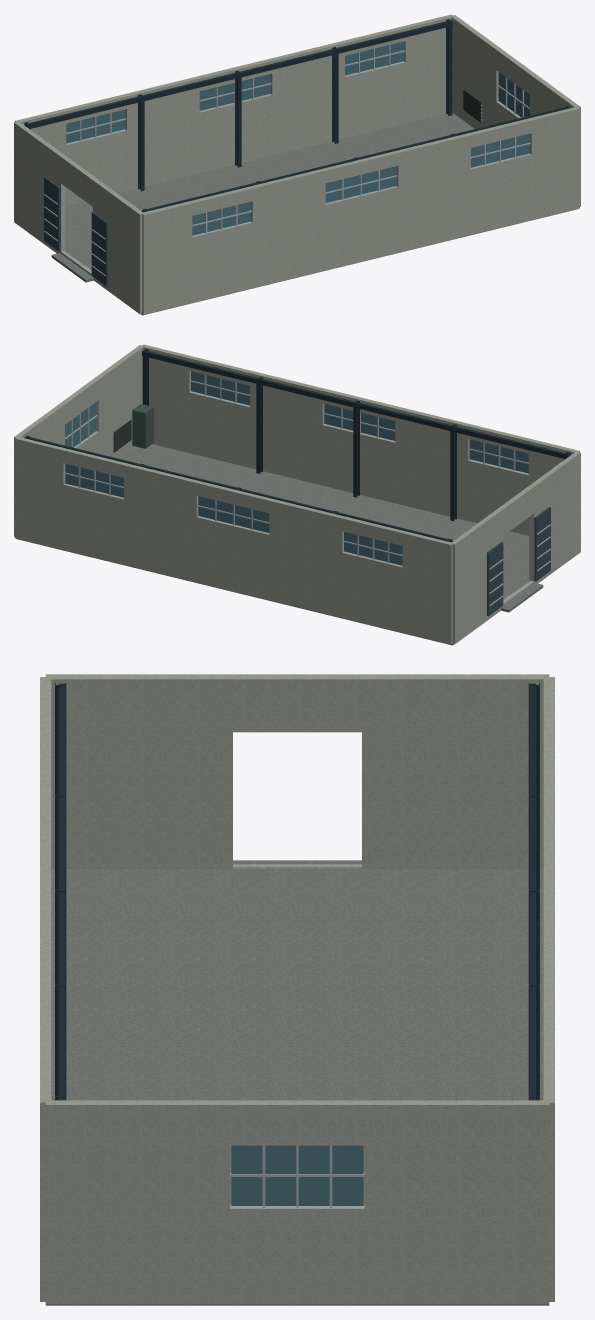
The model's file is mine-distribution-shell.glb.
3 renders of one model, top to bottom at view 1: azimuth 30°, elevation 25°; view 2: azimuth 150°, elevation 25°; view 3: azimuth 270°, elevation 25°, orthographic. The views are drawn at different scales.
Visible parts, largest first — view 1: distribution-shell__Power_wall, distribution-shell__Power_concrete, distribution-shell__Power_glass, distribution-shell__Power_steel, distribution-shell__Power_trim, distribution-shell__Power_roof, distribution-shell__Power_dark; view 2: distribution-shell__Power_wall, distribution-shell__Power_concrete, distribution-shell__Power_glass, distribution-shell__Power_steel, distribution-shell__Power_trim, distribution-shell__Power_roof, distribution-shell__Power_machine, distribution-shell__Power_dark; view 3: distribution-shell__Power_wall, distribution-shell__Power_concrete, distribution-shell__Power_steel, distribution-shell__Power_glass, distribution-shell__Power_trim.
Boxes of the visible parts, bbox=[...] form: distribution-shell__Power_wall: bbox=[14, 14, 580, 314]; distribution-shell__Power_concrete: bbox=[51, 113, 578, 315]; distribution-shell__Power_glass: bbox=[66, 41, 529, 235]; distribution-shell__Power_steel: bbox=[24, 19, 570, 212]; distribution-shell__Power_trim: bbox=[44, 41, 530, 276]; distribution-shell__Power_roof: bbox=[44, 177, 107, 286]; distribution-shell__Power_dark: bbox=[463, 89, 481, 122]; distribution-shell__Power_wall: bbox=[14, 344, 580, 644]; distribution-shell__Power_concrete: bbox=[16, 444, 543, 645]; distribution-shell__Power_glass: bbox=[65, 371, 528, 565]; distribution-shell__Power_steel: bbox=[24, 349, 570, 542]; distribution-shell__Power_trim: bbox=[64, 371, 550, 606]; distribution-shell__Power_roof: bbox=[487, 507, 550, 616]; distribution-shell__Power_machine: bbox=[132, 404, 154, 448]; distribution-shell__Power_dark: bbox=[113, 419, 131, 452]; distribution-shell__Power_wall: bbox=[40, 674, 554, 1304]; distribution-shell__Power_concrete: bbox=[45, 860, 549, 1305]; distribution-shell__Power_steel: bbox=[55, 683, 539, 1100]; distribution-shell__Power_glass: bbox=[231, 1145, 363, 1205]; distribution-shell__Power_trim: bbox=[230, 865, 364, 1207].
Size of the model in its own units: 18.54 by 4 by 9.2.
Materials: 8 (5 with a texture image).
